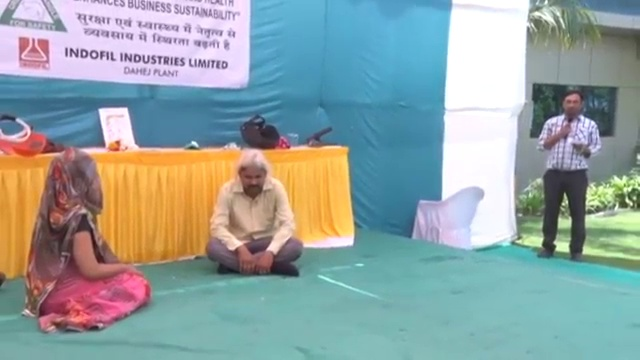helmet_off: (46, 146, 105, 215), (237, 150, 267, 197), (561, 89, 585, 118)
person: (22, 147, 151, 336), (205, 147, 304, 277), (534, 89, 603, 264)
